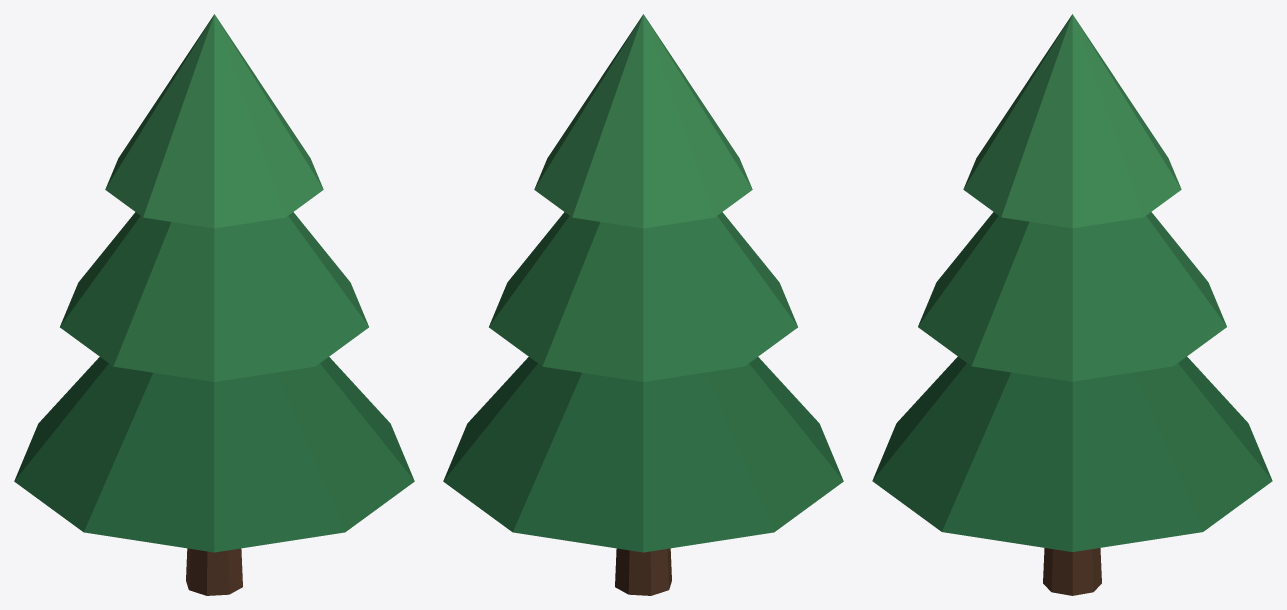
File: tree_pine.glb
3 renders of one model, left to right at view 1: azimuth 30°, elevation 25°; view 2: azimuth 150°, elevation 25°; view 3: azimuth 270°, elevation 25°, orthographic.
Parts seen in each view (by area): view 1: main; view 2: main; view 3: main.
Boxes of the visible parts, <box> form: main: <box>14,14,414,595</box>; main: <box>443,14,843,595</box>; main: <box>872,14,1272,595</box>.
Size of the model in its own units: 2.13 by 3.4 by 2.17.
